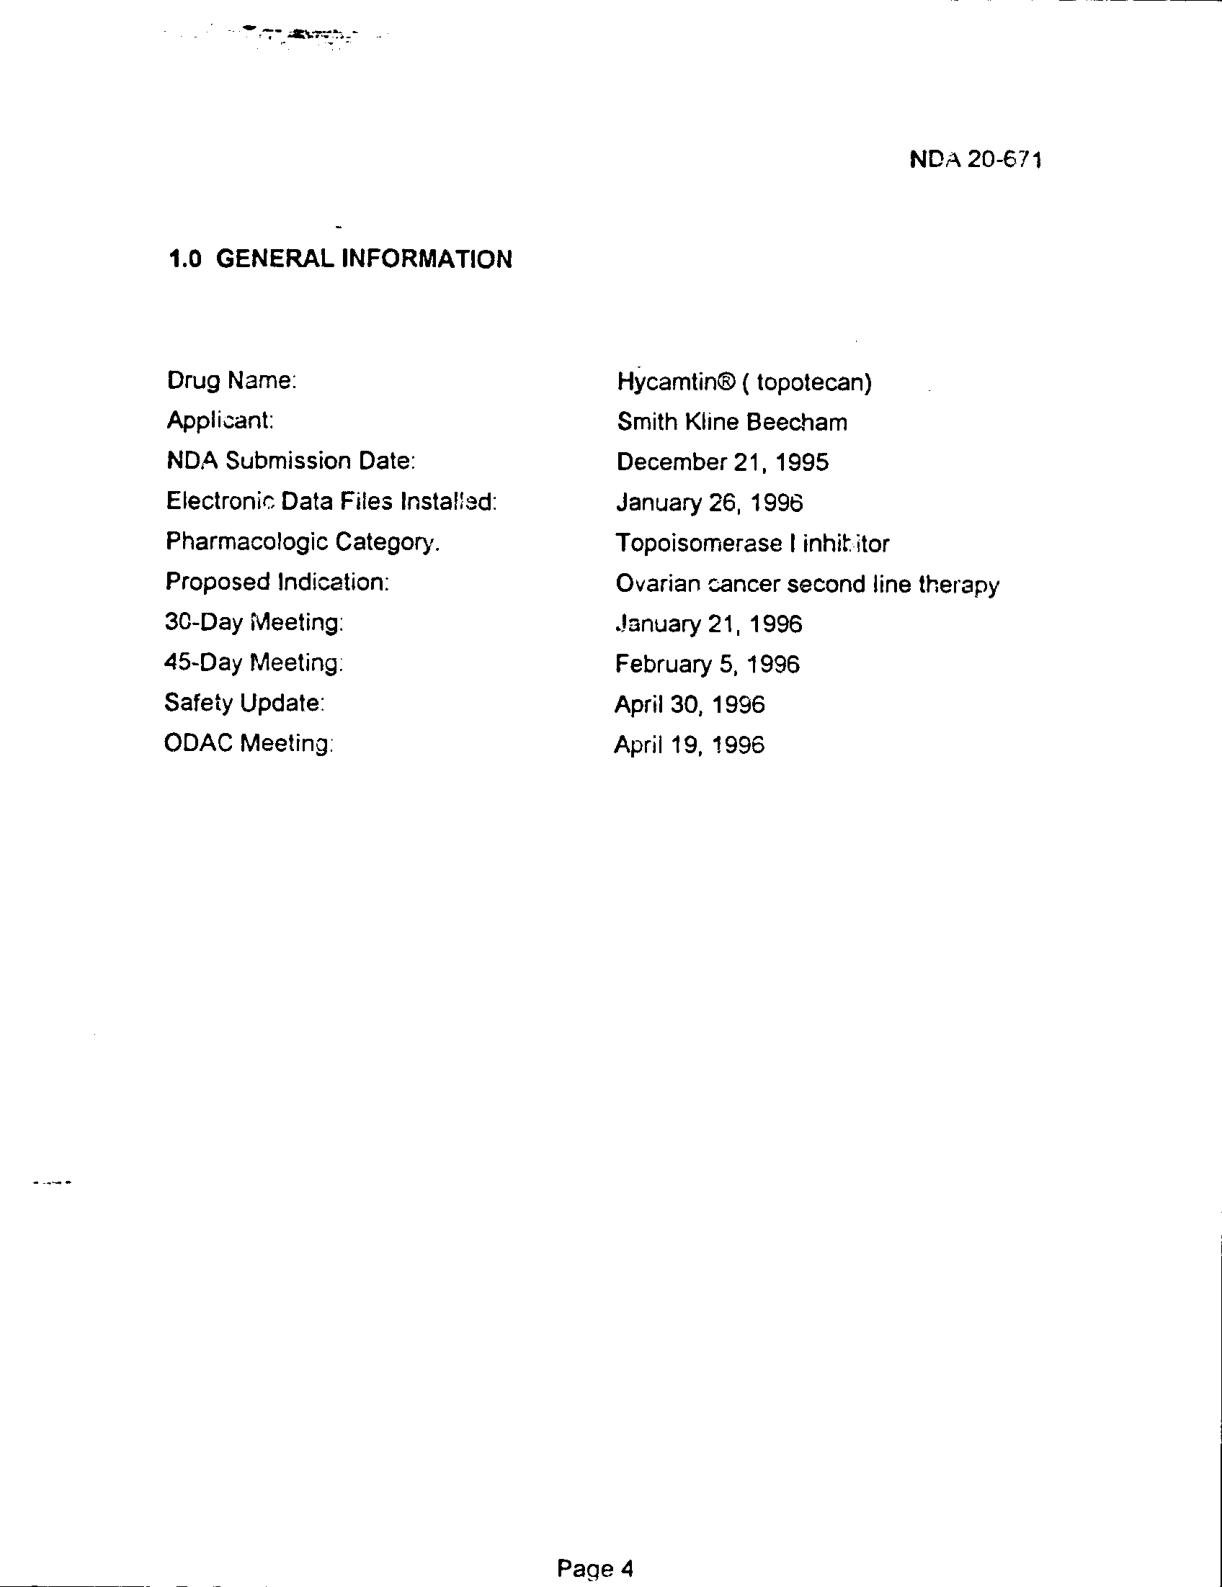nolines: (157, 364, 1009, 762)
